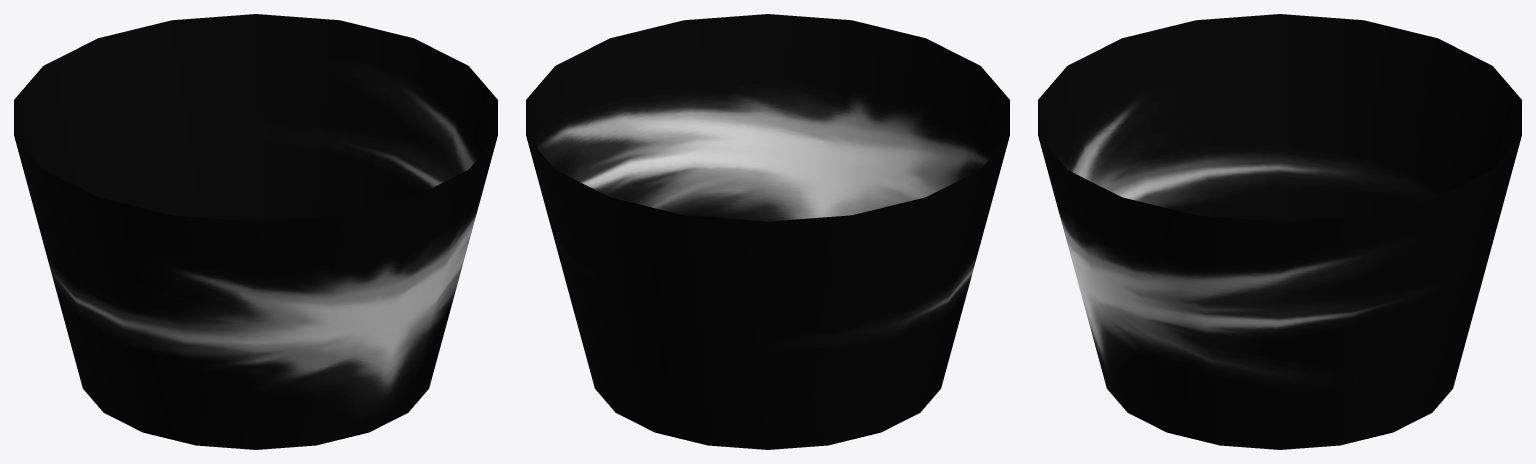
The model's file is 0112_P_FX_Quan_001.glb.
The picture shows the model from 3 angles, left to right: view 1: azimuth 30°, elevation 25°; view 2: azimuth 150°, elevation 25°; view 3: azimuth 270°, elevation 25°; orthographic projection.
Bounding box in the file's own units: 2.2 × 1.27 × 2.17.
Materials: 1 (1 with a texture image).
